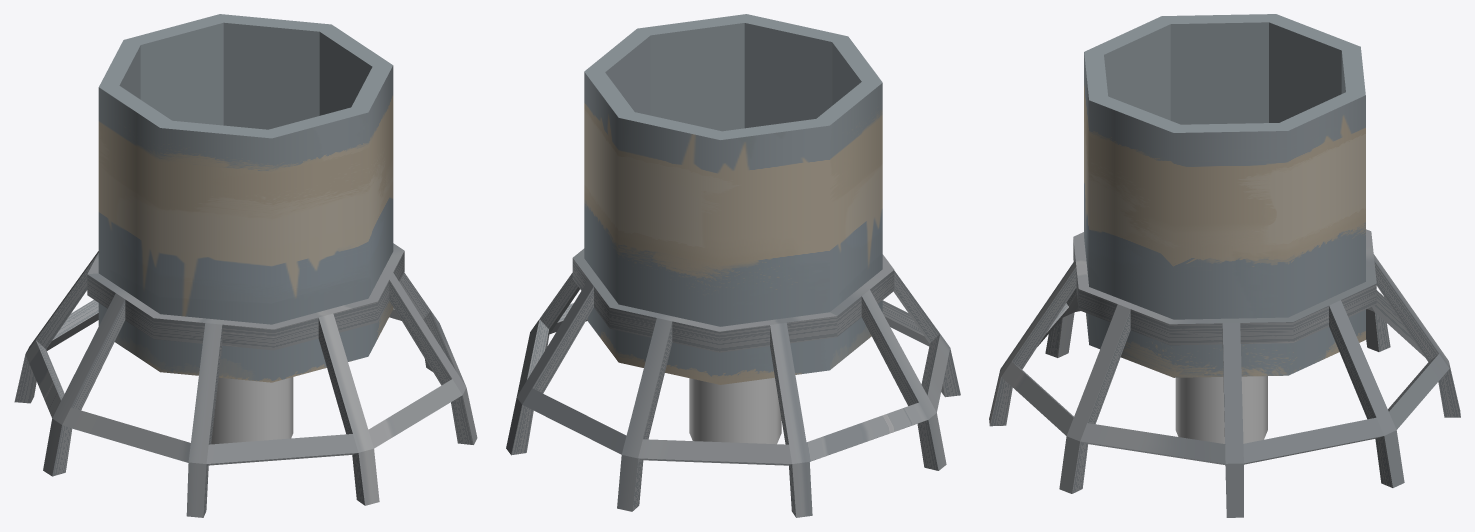
File: WaterTank.FBX
3 views of the same model, side by side, from view 1: azimuth 30°, elevation 25°; view 2: azimuth 150°, elevation 25°; view 3: azimuth 270°, elevation 25° (orthographic).
Visible parts, largest first — view 1: Water Tank, Cylinder002; view 2: Water Tank, Cylinder002; view 3: Water Tank, Cylinder002.
Boxes of the visible parts, x1,y1,x2,y2 form: Water Tank: (14, 14, 477, 517); Cylinder002: (211, 377, 293, 444); Water Tank: (506, 14, 960, 517); Cylinder002: (689, 377, 781, 444); Water Tank: (989, 14, 1460, 517); Cylinder002: (1175, 376, 1267, 443).
Size of the model in its own units: 153 by 129 by 153.
